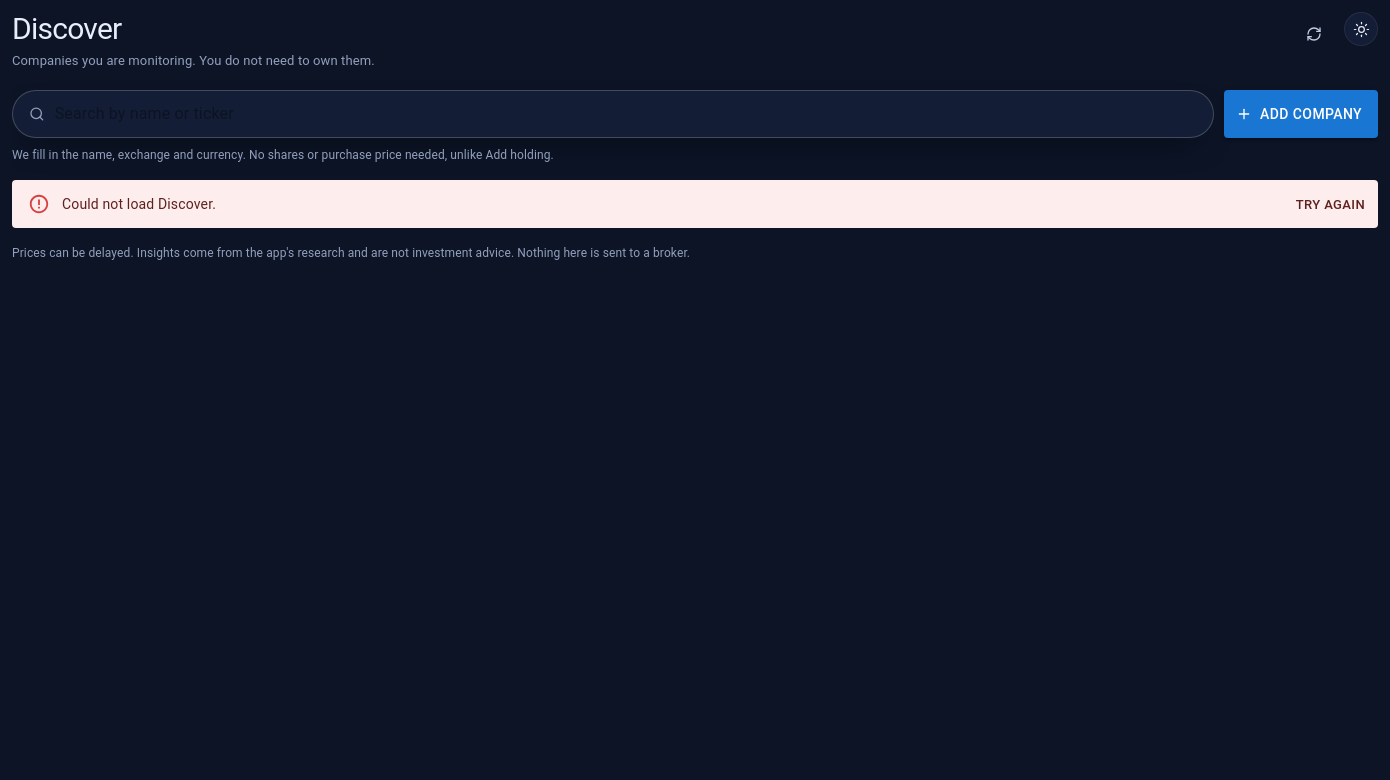
Test case: DiscoverPage › says it could not load, and tries again on request
This screenshot has width=1390, height=780.
Expected: the text "Could not load Discover." is shown, top-left (62, 196), bottom-right (216, 212)
Click the button "Try again": (1330, 205) top-left (1291, 190), bottom-right (1370, 221)
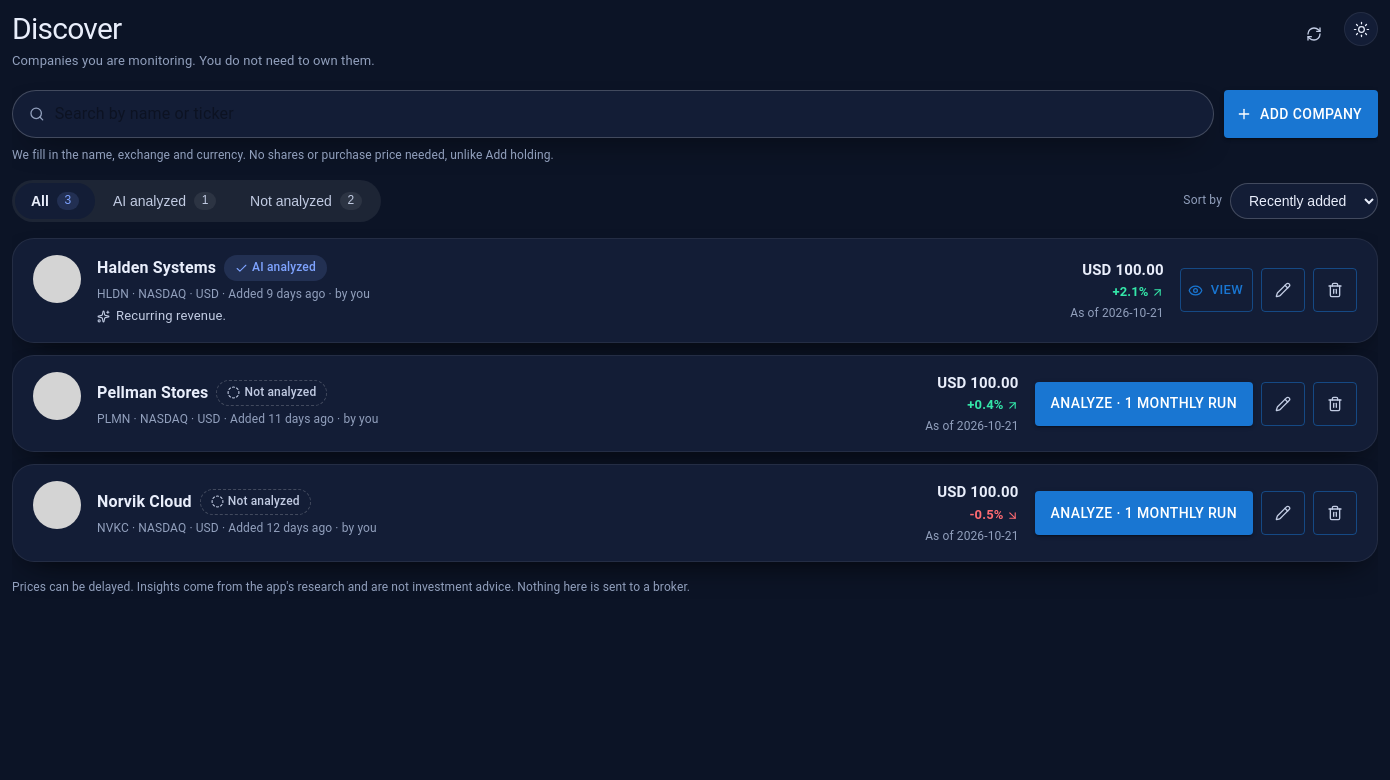
Expected: the link "Halden Systems" is shown, top-left (97, 256), bottom-right (216, 280)
